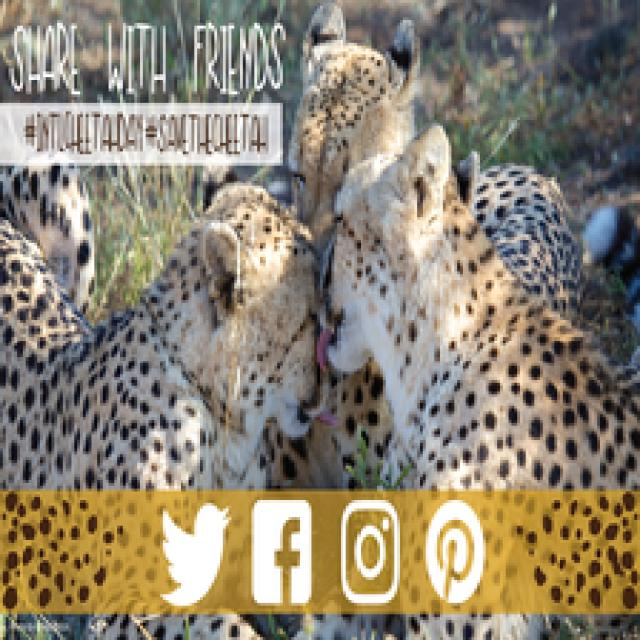cheetah: (323, 155, 640, 496), (12, 199, 329, 486), (301, 8, 443, 186), (3, 170, 100, 364)
